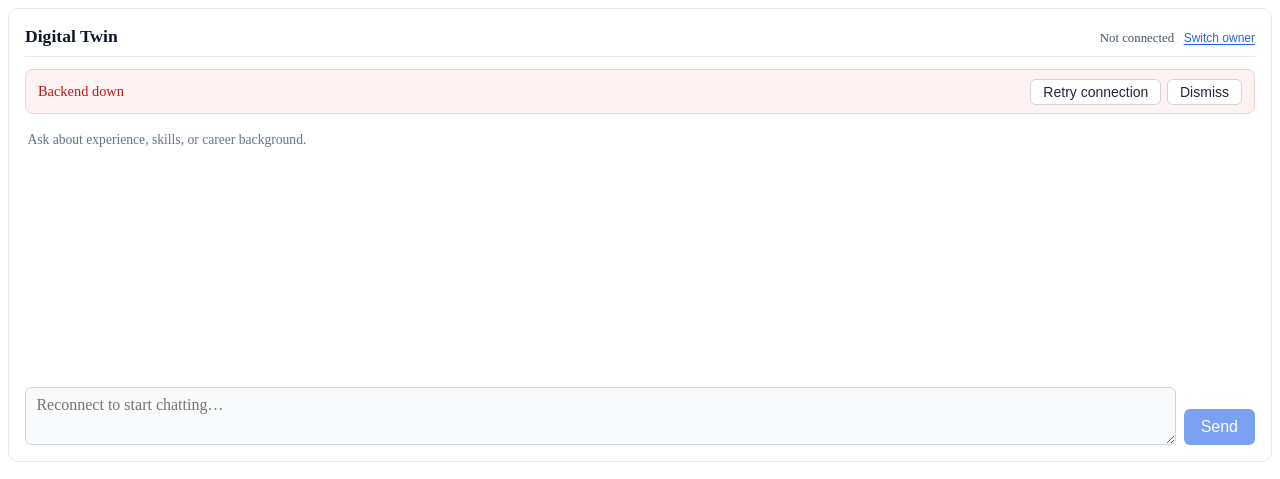
ChatWidget › shows retry when session start fails
Check: the text "Backend down" is shown, box left=38, top=83, right=124, bottom=99
Check: the button "Retry connection" is shown, box left=1030, top=79, right=1161, bottom=105
What coordinates should you click on to do the following:
click the button "Dismiss"
I would click on:
 (1204, 92)
Its box is left=1167, top=79, right=1242, bottom=105.
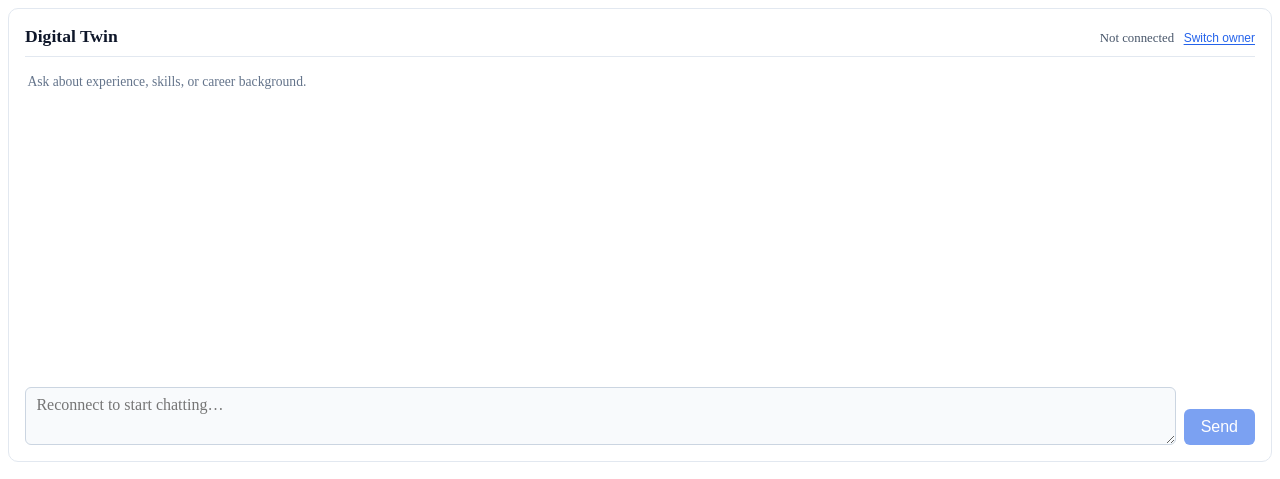
Check: the text "Backend down" is gone
